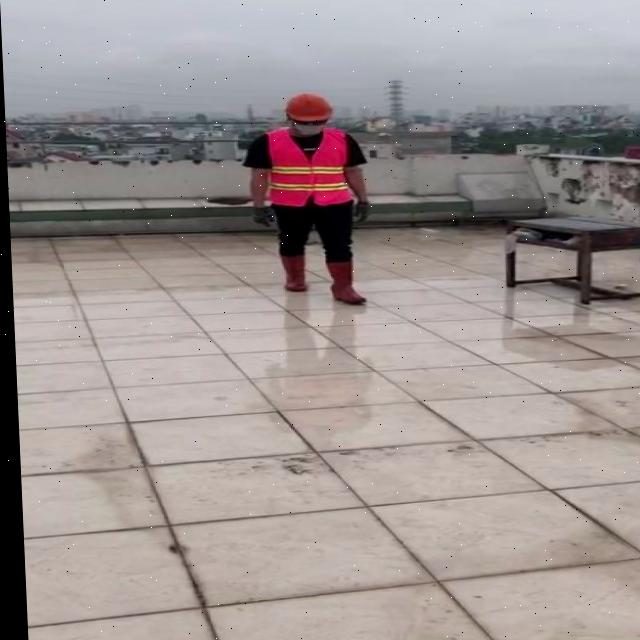Gloves: (248, 205, 274, 227), (349, 200, 369, 223)
Helmet: (282, 92, 331, 123)
Safety-Boot: (323, 258, 364, 304), (278, 253, 304, 291)
Safety-Vest: (263, 127, 351, 206)
